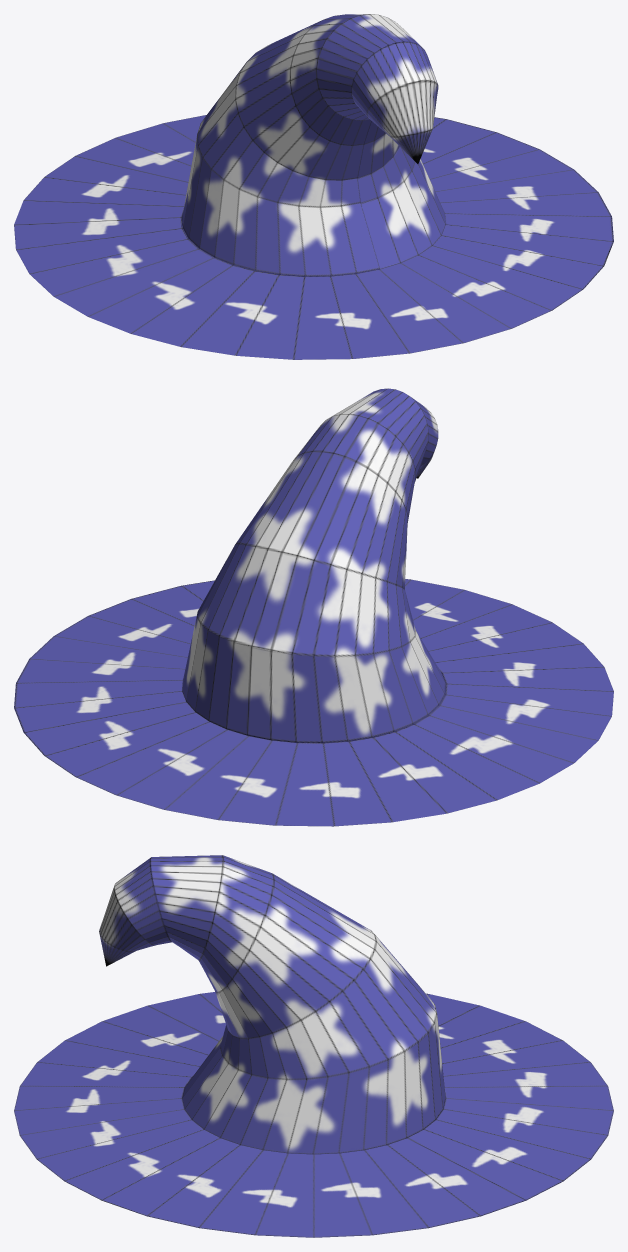
Rendered from Wizard Hat.obj.
The picture shows the model from 3 angles, top to bottom: view 1: azimuth 30°, elevation 25°; view 2: azimuth 150°, elevation 25°; view 3: azimuth 270°, elevation 25°; orthographic projection.
Parts seen in each view (by area): view 1: Cone; view 2: Cone; view 3: Cone.
Boxes of the visible parts, bbox=[...] form: Cone: bbox=[14, 14, 613, 359]; Cone: bbox=[14, 388, 613, 826]; Cone: bbox=[14, 855, 613, 1237].
Size of the model in its own units: 3.9 by 1.8 by 3.9.
